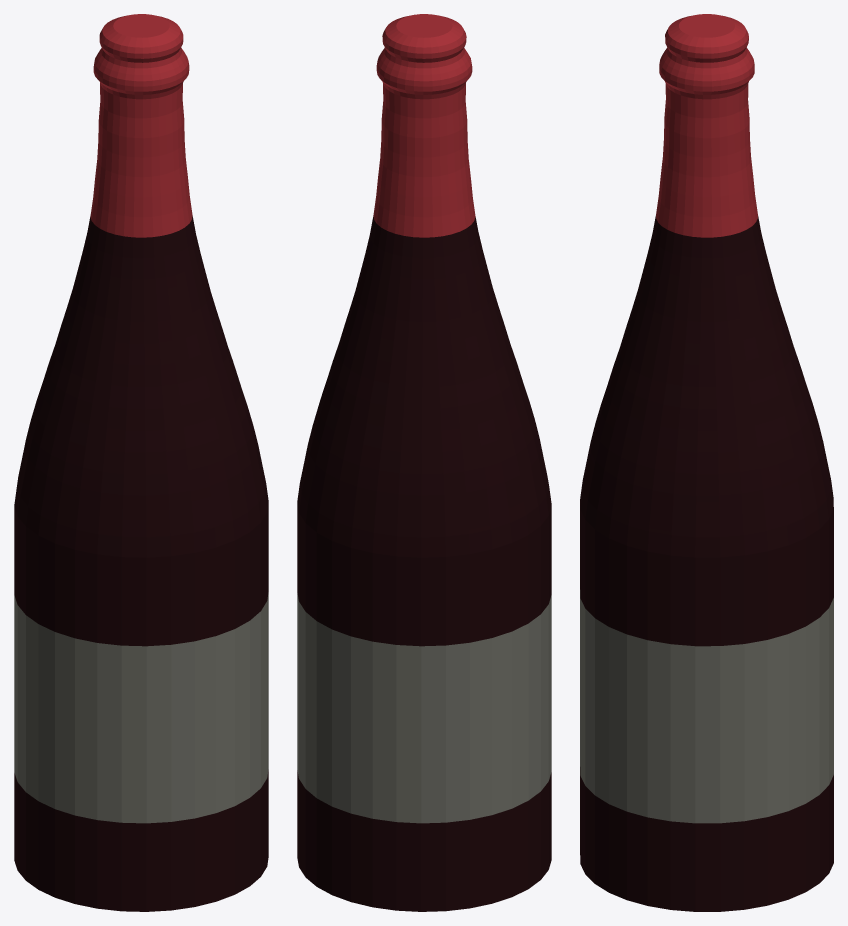
Rendered from igftt_wine.gltf.
3 renders of one model, left to right at view 1: azimuth 30°, elevation 25°; view 2: azimuth 150°, elevation 25°; view 3: azimuth 270°, elevation 25°, orthographic.
Parts seen in each view (by area): view 1: Cylinder; view 2: Cylinder; view 3: Cylinder.
Boxes of the visible parts, bbox=[...] form: Cylinder: bbox=[14, 14, 268, 911]; Cylinder: bbox=[297, 14, 551, 911]; Cylinder: bbox=[580, 14, 833, 911].
Size of the model in its own units: 0.1745 by 0.6318 by 0.1745.
